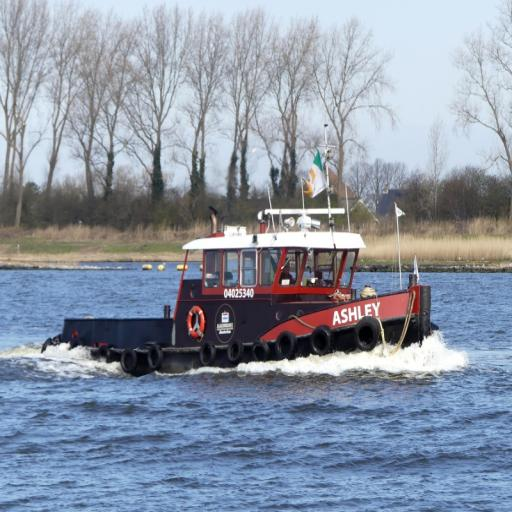tugboat: (40, 120, 444, 391)
